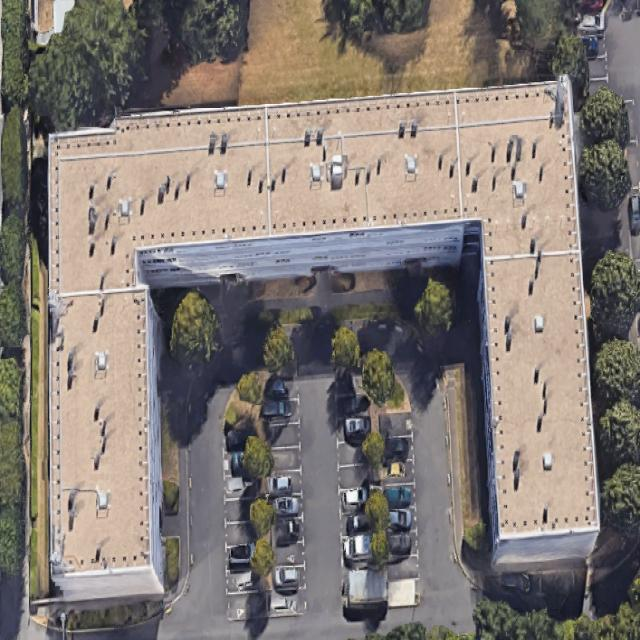immeuble: (36, 80, 582, 295), (468, 248, 602, 567), (45, 289, 164, 599)
